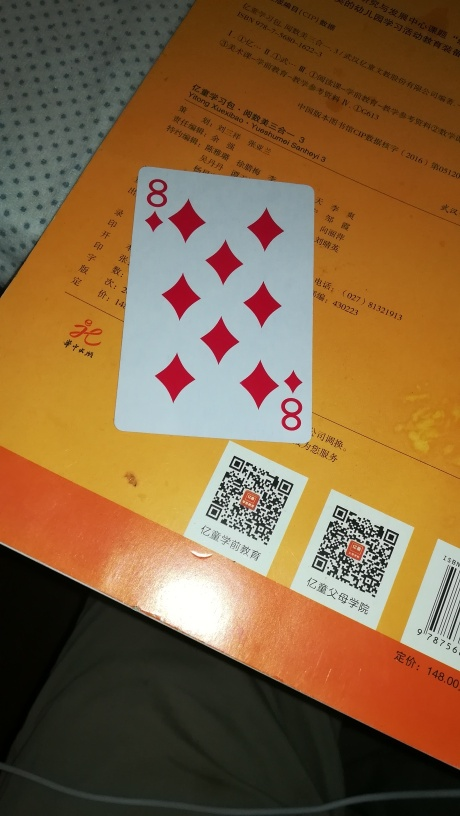fk 8: (115, 163, 312, 446)
